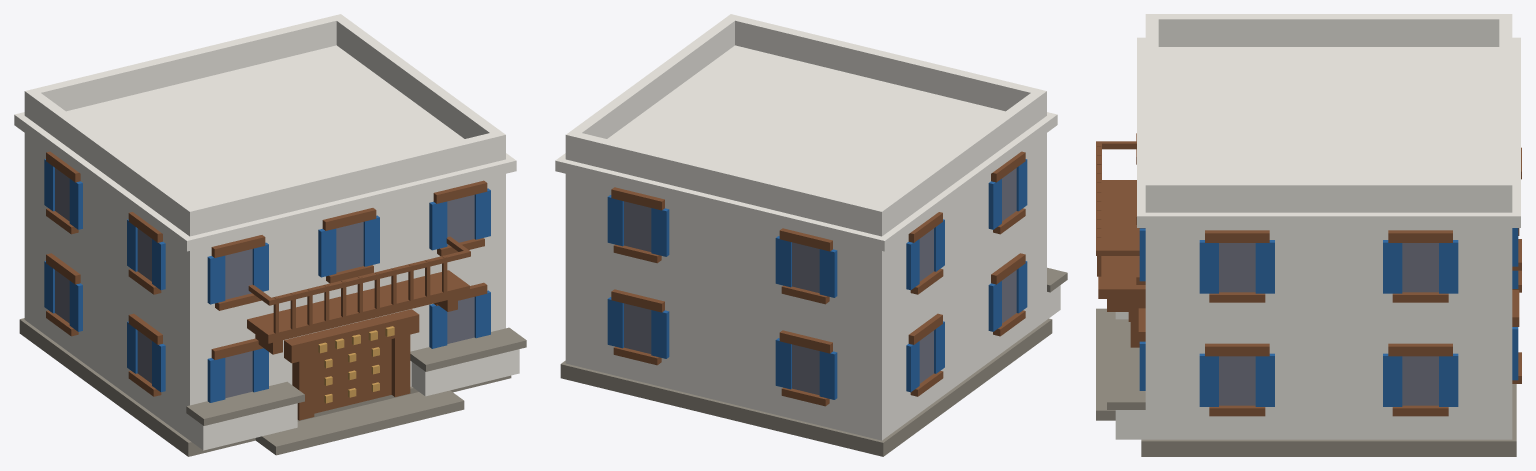
File: house-1x1-2f-swahili-a.glb
3 renders of one model, left to right at view 1: azimuth 30°, elevation 25°; view 2: azimuth 150°, elevation 25°; view 3: azimuth 270°, elevation 25°, orthographic. The views are drawn at different scales.
Visible parts, largest first — view 1: house-1x1-2f-swahili-a; view 2: house-1x1-2f-swahili-a; view 3: house-1x1-2f-swahili-a.
Part boxes in pixels (left/top/right/bottom): house-1x1-2f-swahili-a: left=14, top=14, right=526, bottom=456; house-1x1-2f-swahili-a: left=555, top=14, right=1067, bottom=456; house-1x1-2f-swahili-a: left=1096, top=14, right=1521, bottom=456.
Size of the model in its own units: 0.984 by 0.69 by 0.987.
Materials: 1 (1 with a texture image).
